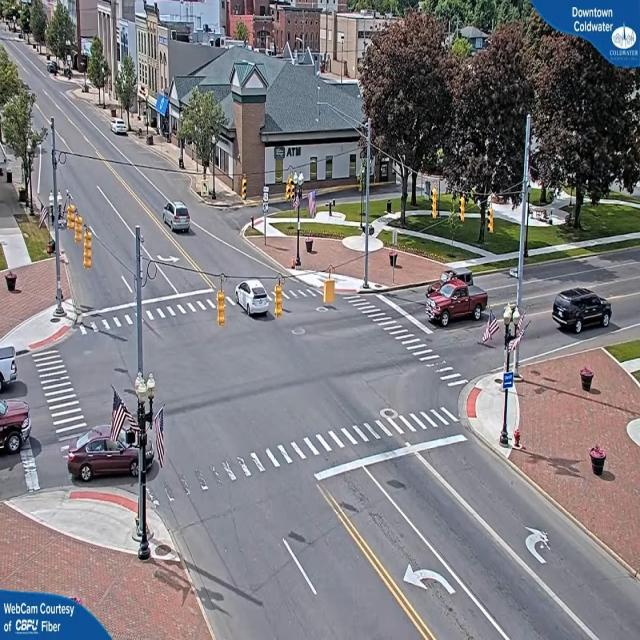car: (424, 275, 488, 326), (550, 287, 614, 332), (231, 277, 282, 319), (163, 202, 192, 235), (1, 347, 19, 396), (112, 121, 130, 138)
truck: (65, 430, 147, 488), (1, 398, 32, 457)
